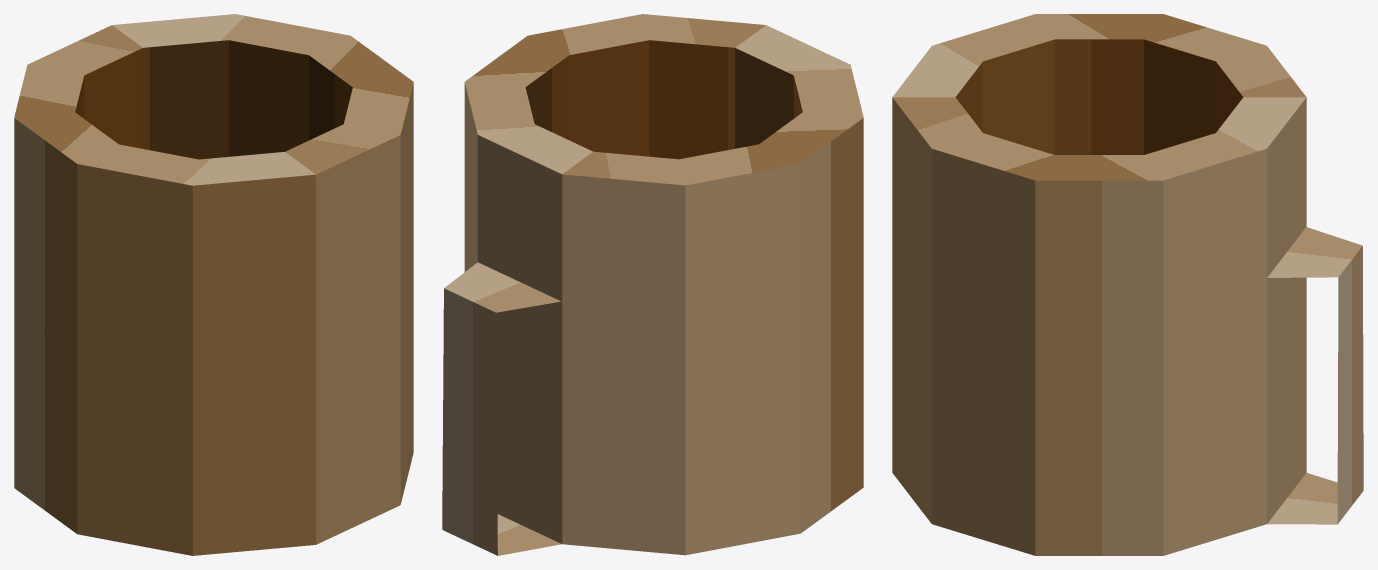
Rendered from cup_628x11.gltf.
The picture shows the model from 3 angles, left to right: view 1: azimuth 30°, elevation 25°; view 2: azimuth 150°, elevation 25°; view 3: azimuth 270°, elevation 25°; orthographic projection.
Visible parts, largest first — view 1: cup_628x11; view 2: cup_628x11; view 3: cup_628x11.
Boxes of the visible parts, x1,y1,x2,y2 form: cup_628x11: (14, 14, 413, 555); cup_628x11: (442, 14, 863, 555); cup_628x11: (892, 14, 1363, 555).
Size of the model in its own units: 0.2902 by 0.3051 by 0.3472.
1 material, 1 textured.
